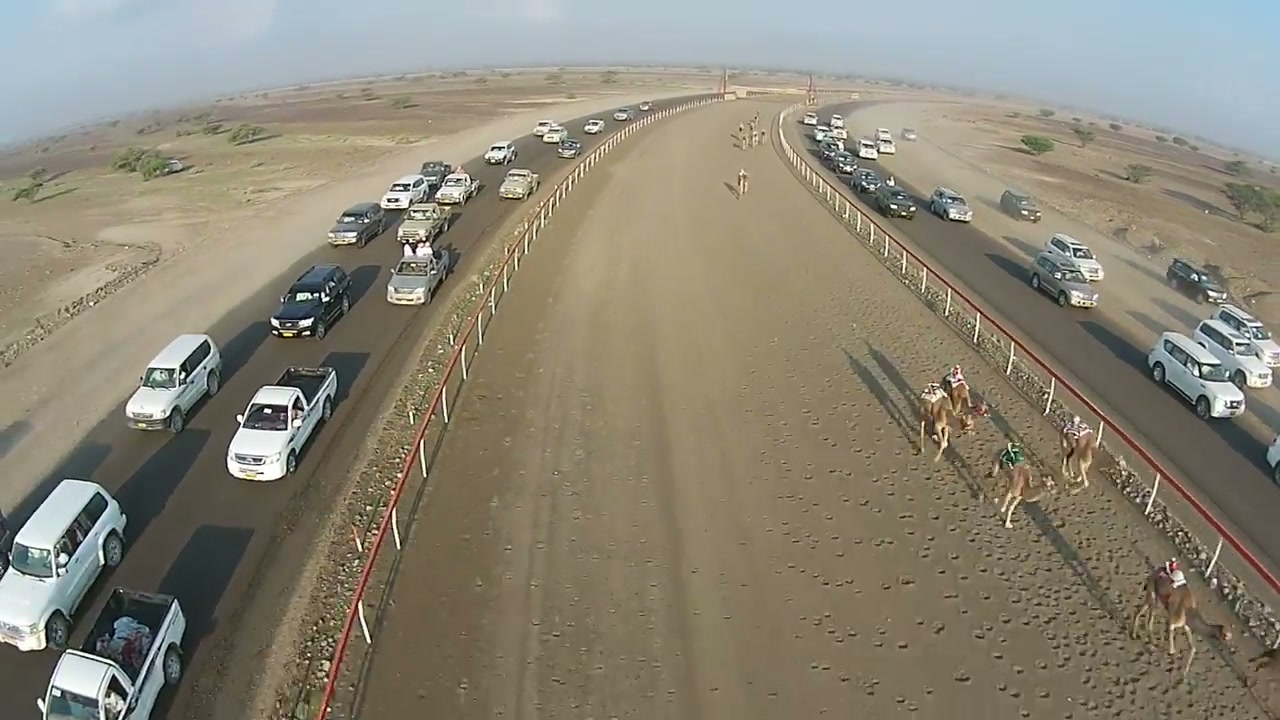animal_foot_print: (826, 458, 1197, 715)
